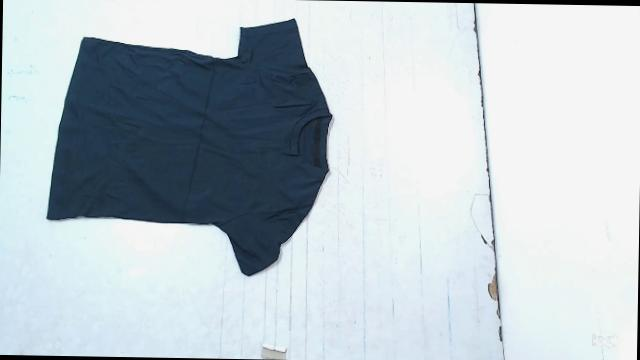new-garment: (47, 19, 331, 275)
